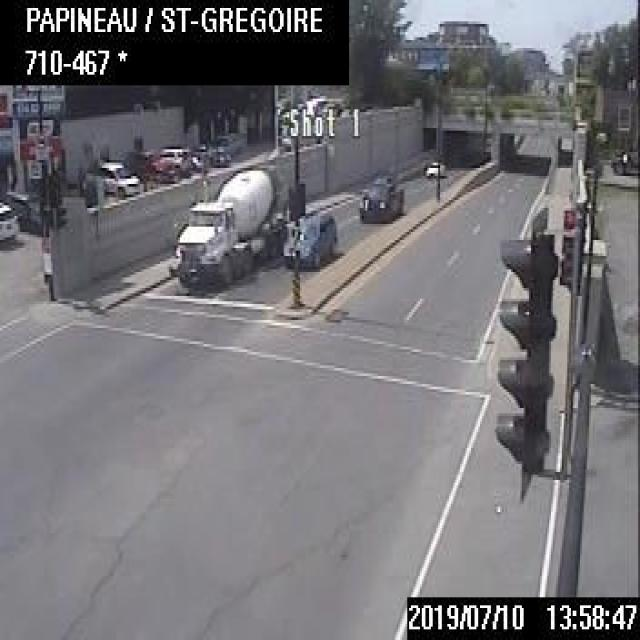vehicle: (172, 158, 292, 285), (282, 202, 336, 266), (4, 190, 62, 231), (84, 154, 140, 196), (358, 168, 404, 219), (150, 144, 190, 178), (0, 199, 20, 249), (610, 144, 637, 174), (422, 157, 445, 176)
